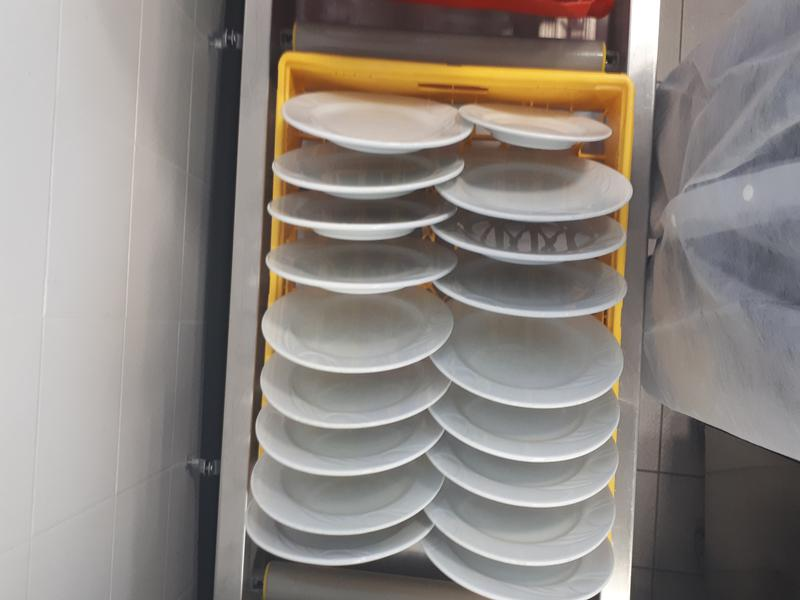Dish: (256, 287, 453, 379), (450, 318, 621, 409), (463, 157, 635, 229), (430, 502, 622, 566), (263, 238, 461, 298), (278, 87, 461, 150), (250, 477, 444, 535), (438, 400, 624, 460), (257, 374, 448, 428), (267, 150, 464, 200), (451, 262, 626, 317), (440, 453, 621, 506), (234, 524, 432, 572), (460, 98, 614, 159), (255, 427, 439, 478), (263, 195, 451, 244), (450, 218, 629, 267), (419, 562, 617, 596)
